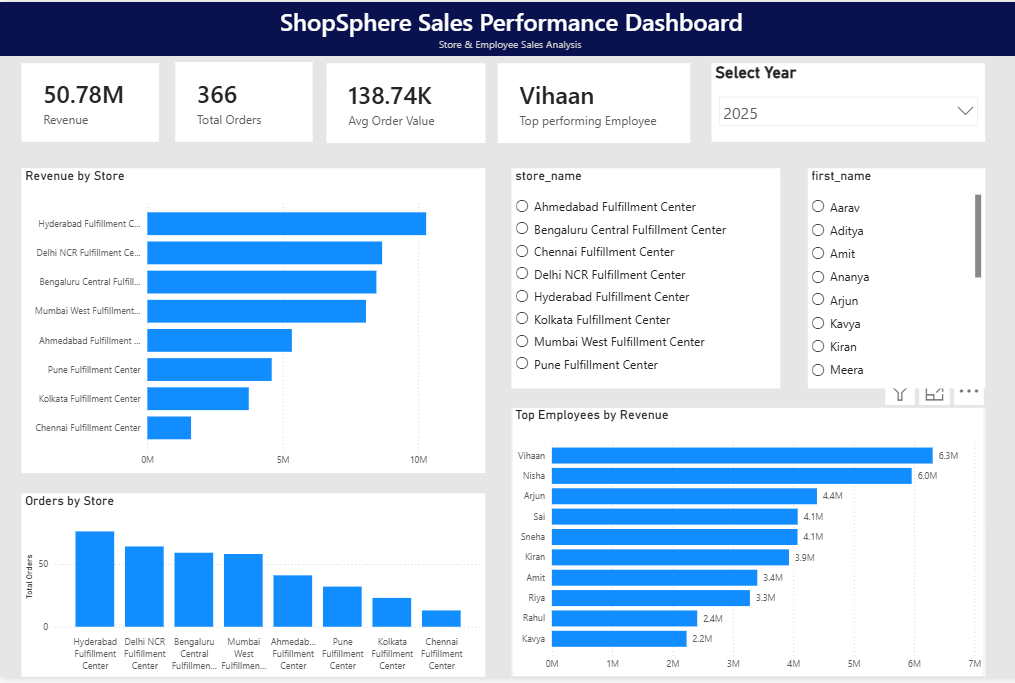

This screenshot's page, from the dashboard's own definition file:
{"tool":"powerbi","page":{"name":"Sales Performance","canvas":[1366,900],"ordinal":2},"visuals":[{"type":"clusteredBarChart","title":"Revenue by Store","fields":{"Y":["Order_Items.Total Revenue"],"Category":["Stores.store_name"]},"box":[30,221.7,618.3,406.7],"z":0},{"type":"textbox","box":[0,0,1366.7,71.7],"z":1000},{"type":"cardVisual","fields":{"Data":["Order_Items.Total Revenue"]},"box":[30,81.7,183.3,105],"z":2000},{"type":"cardVisual","fields":{"Data":["Orders.Total Orders"]},"box":[235,80,183.3,106.7],"z":3000},{"type":"cardVisual","fields":{"Data":["Order_Items.Average Order Value"]},"box":[436.7,81.7,211.7,106.7],"z":4000},{"type":"barChart","title":"Top Employees by Revenue","fields":{"Category":["Employees.first_name"],"Y":["Order_Items.Total Revenue"]},"box":[683.3,540,631.7,360],"z":5000},{"type":"columnChart","title":"Orders by Store","fields":{"Y":["Orders.Total Orders"],"Category":["Stores.store_name"]},"box":[30,655,618.3,245],"z":6000},{"type":"cardVisual","fields":{"Data":["Min(Employees.first_name)"]},"box":[665,81.7,256.7,106.7],"z":7000},{"type":"slicer","title":"Select Year","fields":{"Values":["Orders.order_date.Variation.Date Hierarchy.Year","Orders.order_date.Variation.Date Hierarchy.Quarter","Orders.order_date.Variation.Date Hierarchy.Month","Orders.order_date.Variation.Date Hierarchy.Day"]},"box":[950,81.7,365,105],"z":8000},{"type":"listSlicer","fields":{"Values":["Stores.store_name"]},"box":[683.3,221.7,358.3,293.3],"z":9000},{"type":"listSlicer","fields":{"Values":["Employees.first_name"]},"box":[1078.3,221.7,236.7,293.3],"z":10000}]}

Visuals, with their boxes in screenshot pixels (x1, y1, x2, y2), scaled from the page's 1366x900 canvas onto the 1015x683 screenshot:
"Revenue by Store" clusteredBarChart: <bbox>22, 168, 482, 477</bbox>
textbox: <bbox>0, 0, 1014, 54</bbox>
cardVisual - Order_Items.Total Revenue: <bbox>22, 62, 158, 142</bbox>
cardVisual - Orders.Total Orders: <bbox>175, 61, 311, 142</bbox>
cardVisual - Order_Items.Average Order Value: <bbox>324, 62, 482, 143</bbox>
"Top Employees by Revenue" barChart: <bbox>508, 410, 977, 682</bbox>
"Orders by Store" columnChart: <bbox>22, 497, 482, 682</bbox>
cardVisual - Min(Employees.first_name): <bbox>494, 62, 685, 143</bbox>
"Select Year" slicer: <bbox>706, 62, 977, 142</bbox>
listSlicer - Stores.store_name: <bbox>508, 168, 774, 391</bbox>
listSlicer - Employees.first_name: <bbox>801, 168, 977, 391</bbox>
